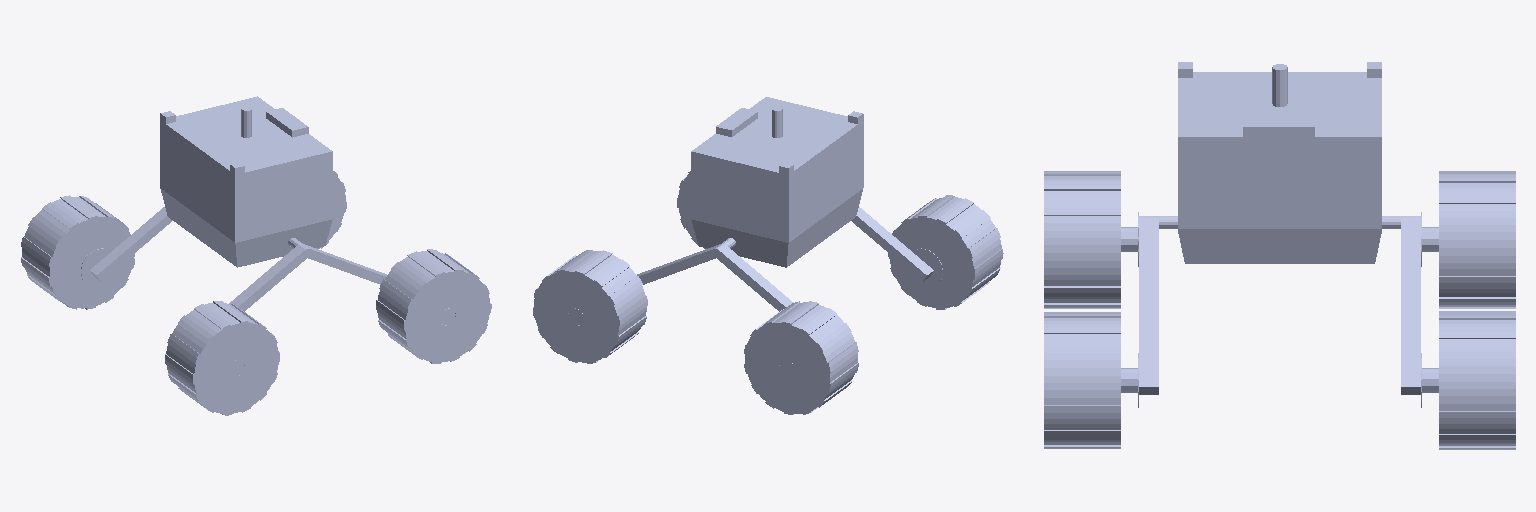
The robot description file, URDF, robot "rover_description":
<?xml version="1.0" encoding="utf-8"?>
<robot name="rover_description">
  <link name="base_footprint"/>

    <joint name="base_joint" type="fixed">
      <parent link="base_footprint"/>
      <child link="base_link"/>
      <origin xyz="0 0 0" rpy="0 0 0"/>
    </joint>
  <link name="base_link">
    <inertial>
      <origin xyz="0.00283734598617559 -5.48612014375314E-06 0.406897744418785" rpy="0 0 0" />
      <mass value="36.4090186352555" />
      <inertia
        ixx="1.14989797110002"
        ixy="2.43735391975785E-05"
        ixz="0.0182296282265289"
        iyy="0.875741628239762"
        iyz="3.36012534940276E-05"
        izz="1.2152774654334" />
    </inertial>
    <visual>
      <origin xyz="0 0 0" rpy="0 0 0" />
      <geometry>
        <mesh filename="package://rover_description/meshes/base_link.STL" />
      </geometry>
      <material name="">
        <color rgba="0.792156862745098 0.819607843137255 0.933333333333333 1" />
      </material>
    </visual>
    <collision>
      <origin xyz="0 0 0" rpy="0 0 0" />
      <geometry>
        <mesh filename="package://rover_description/meshes/base_link.STL" />
      </geometry>
    </collision>
  </link>
  
  <link name="link_BR">
    <inertial>
      <origin xyz="-1.11022302462516E-16 0.075 2.77555756156289E-17" rpy="0 0 0" />
      <mass value="8.03286499782856" />
      <inertia
        ixx="0.0518365067203933"
        ixy="1.9451979284797E-18"
        ixz="1.77633365513707E-17"
        iyy="0.0735497696989294"
        iyz="3.99958369781652E-19"
        izz="0.0518365067203933" />
    </inertial>
    <visual>
      <origin xyz="0 0 0" rpy="0 0 0" />
      <geometry>
        <mesh filename="package://rover_description/meshes/link_BR.STL" />
      </geometry>
      <material name="">
        <color rgba="0.792156862745098 0.819607843137255 0.933333333333333 1" />
      </material>
    </visual>
    <collision>
      <origin xyz="0 0 0" rpy="0 0 0" />
      <geometry>
        <mesh filename="package://rover_description/meshes/link_BR.STL" />
      </geometry>
    </collision>
  </link>
  
  <joint name="joint_BR" type="continuous">
    <origin xyz="-0.29633 -0.46 0.135" rpy="0 0 0" />
    <parent link="base_link" />
    <child link="link_BR" />
    <axis xyz="0 1 0" />
  </joint>
  
  <link name="link_BL">
    <inertial>
      <origin xyz="-2.22044604925031E-16 -0.075 -5.55111512312578E-17" rpy="0 0 0" />
      <mass value="8.03286499782856" />
      <inertia
        ixx="0.0518365067203933"
        ixy="1.81890518556632E-18"
        ixz="1.32480164207779E-17"
        iyy="0.0735497696989295"
        iyz="1.87977761238893E-18"
        izz="0.0518365067203933" />
    </inertial>
    <visual>
      <origin xyz="0 0 0" rpy="0 0 0" />
      <geometry>
        <mesh filename="package://rover_description/meshes/link_BL.STL" />
      </geometry>
      <material name="">
        <color rgba="0.792156862745098 0.819607843137255 0.933333333333333 1" />
      </material>
    </visual>
    <collision>
      <origin xyz="0 0 0" rpy="0 0 0" />
      <geometry>
        <mesh filename="package://rover_description/meshes/link_BL.STL" />
      </geometry>
    </collision>
  </link>
  
  <joint name="joint_BL" type="continuous">
    <origin xyz="-0.29633 0.46 0.135" rpy="0 0 0" />
    <parent link="base_link" />
    <child link="link_BL" />
    <axis xyz="0 1 0" />
  </joint>
  
  <link name="link_FR">
    <inertial>
      <origin xyz="1.11022302462516E-16 0.0750000000000001 -2.77555756156289E-17" rpy="0 0 0" />
      <mass value="8.03286499782856" />
      <inertia
        ixx="0.0518365067203933"
        ixy="-3.11534428966492E-18"
        ixz="-8.04681299891585E-18"
        iyy="0.0735497696989295"
        iyz="1.2345414931867E-18"
        izz="0.0518365067203933" />
    </inertial>
    <visual>
      <origin xyz="0 0 0" rpy="0 0 0" />
      <geometry>
        <mesh filename="package://rover_description/meshes/link_FR.STL" />
      </geometry>
      <material name="">
        <color rgba="0.792156862745098 0.819607843137255 0.933333333333333 1" />
      </material>
    </visual>
    <collision>
      <origin xyz="0 0 0" rpy="0 0 0" />
      <geometry>
        <mesh filename="package://rover_description/meshes/link_FR.STL" />
      </geometry>
    </collision>
  </link>
  
  <joint name="joint_FR" type="continuous">
    <origin xyz="0.35401 -0.46 0.135" rpy="0 0 0" />
    <parent link="base_link" />
    <child link="link_FR" />
    <axis xyz="0 1 0" />
  </joint>
  
  <link name="link_FL">
    <inertial>
      <origin xyz="8.32667268468867E-16 -0.0750000000000007 -1.0547118733939E-15" rpy="0 0 0" />
      <mass value="8.03286499782857" />
      <inertia
        ixx="0.0518365067203933"
        ixy="-3.78750231068312E-18"
        ixz="-3.92798837664047E-18"
        iyy="0.0735497696989295"
        iyz="2.51986915923885E-19"
        izz="0.0518365067203933" />
    </inertial>
    <visual>
      <origin xyz="0 0 0" rpy="0 0 0" />
      <geometry>
        <mesh filename="package://rover_description/meshes/link_FL.STL" />
      </geometry>
      <material name="">
        <color rgba="0.792156862745098 0.819607843137255 0.933333333333333 1" />
      </material>
    </visual>
    <collision>
      <origin xyz="0 0 0" rpy="0 0 0" />
      <geometry>
        <mesh filename="package://rover_description/meshes/link_FL.STL" />
      </geometry>
    </collision>
  </link>
  
  <joint name="joint_FL" type="continuous">
    <origin xyz="0.35401 0.46 0.135" rpy="0 0 0" />
    <parent link="base_link" />
    <child link="link_FL" />
    <axis xyz="0 1 0" />
  </joint>

  <!-- GAZEBO SIM (GZ-SIM) PLUGINS - NOT GAZEBO CLASSIC -->
  
  <!-- 1. Differential Drive Plugin for Gazebo Garden/Harmonic -->
  <gazebo>
    <plugin filename="gz-sim-diff-drive-system" name="gz::sim::systems::DiffDrive">
      <!-- Wheel joints -->
      <left_joint>joint_FL</left_joint>
      <left_joint>joint_BL</left_joint>
      <right_joint>joint_FR</right_joint>
      <right_joint>joint_BR</right_joint>
      
      <!-- Kinematics -->
      <wheel_separation>0.92</wheel_separation>
      <wheel_radius>0.15</wheel_radius>
      
      <!-- Limits -->
      <max_linear_velocity>2.0</max_linear_velocity>
      <min_linear_velocity>-2.0</min_linear_velocity>
      <max_angular_velocity>1.0</max_angular_velocity>
      <min_angular_velocity>-1.0</min_angular_velocity>
      
      <!-- Topics -->
      <topic>cmd_vel</topic>
      <odom_topic>odom</odom_topic>
      <frame_id>odom</frame_id>
      <child_frame_id>base_link</child_frame_id>
      
      <!-- Publishing -->
      <odom_publisher_frequency>30</odom_publisher_frequency>
    </plugin>
  </gazebo>
  
  <!-- 2. Joint State Publisher Plugin for Gazebo Garden/Harmonic -->
  <gazebo>
    <plugin filename="gz-sim-joint-state-publisher-system" name="gz::sim::systems::JointStatePublisher">
      <topic>joint_states</topic>
      <joint_name>joint_FL</joint_name>
      <joint_name>joint_FR</joint_name>
      <joint_name>joint_BL</joint_name>
      <joint_name>joint_BR</joint_name>
    </plugin>
  </gazebo>

  <!-- GAZEBO MATERIALS -->
  <gazebo reference="base_footprint">
    <material>Gazebo/White</material>
  </gazebo>

  <gazebo reference="base_link">
    <material>Gazebo/Grey</material>
    <mu1>0.2</mu1>
    <mu2>0.2</mu2>
  </gazebo>

  <gazebo reference="link_FL">
    <material>Gazebo/DarkGrey</material>
    <mu1>1.2</mu1>
    <mu2>1.2</mu2>
  </gazebo>

  <gazebo reference="link_FR">
    <material>Gazebo/DarkGrey</material>
    <mu1>1.2</mu1>
    <mu2>1.2</mu2>
  </gazebo>

  <gazebo reference="link_BL">
    <material>Gazebo/DarkGrey</material>
    <mu1>1.2</mu1>
    <mu2>1.2</mu2>
  </gazebo>

  <gazebo reference="link_BR">
    <material>Gazebo/DarkGrey</material>
    <mu1>1.2</mu1>
    <mu2>1.2</mu2>
  </gazebo>
</robot>

--- What the picture shows (computed from the rendered views, not written in the file) ---
3 views of the same robot in one strip: view 1: azimuth 30°, elevation 25°; view 2: azimuth 150°, elevation 25°; view 3: azimuth 270°, elevation 25° (orthographic).
Robot: rover_description — 6 links, 5 joints (4 continuous, 1 fixed); root link base_footprint; default pose: all joints at 0.
Links seen in each view (by area): view 1: base_link, link_FR, link_BR, link_BL, link_FL; view 2: base_link, link_BL, link_FL, link_BR, link_FR; view 3: base_link, link_FL, link_BR, link_BL, link_FR.
Link boxes in pixels (x1,y1,x2,y2): base_link: (81, 96, 455, 376); link_FR: (376, 249, 491, 363); link_BR: (165, 301, 279, 415); link_BL: (21, 195, 134, 309); link_FL: (283, 171, 346, 256); base_link: (568, 97, 942, 376); link_BL: (744, 301, 858, 414); link_FL: (533, 250, 647, 363); link_BR: (888, 195, 1003, 309); link_FR: (677, 171, 706, 248); base_link: (1121, 62, 1438, 407); link_FL: (1439, 311, 1515, 449); link_BR: (1044, 171, 1120, 308); link_BL: (1439, 171, 1515, 308); link_FR: (1044, 312, 1120, 448).
Bounding box of the posed robot: 0.9202 × 0.92 × 0.6452 m (x, y, z).
5 mesh visuals loaded from 5 distinct referenced files (5 binary STL).